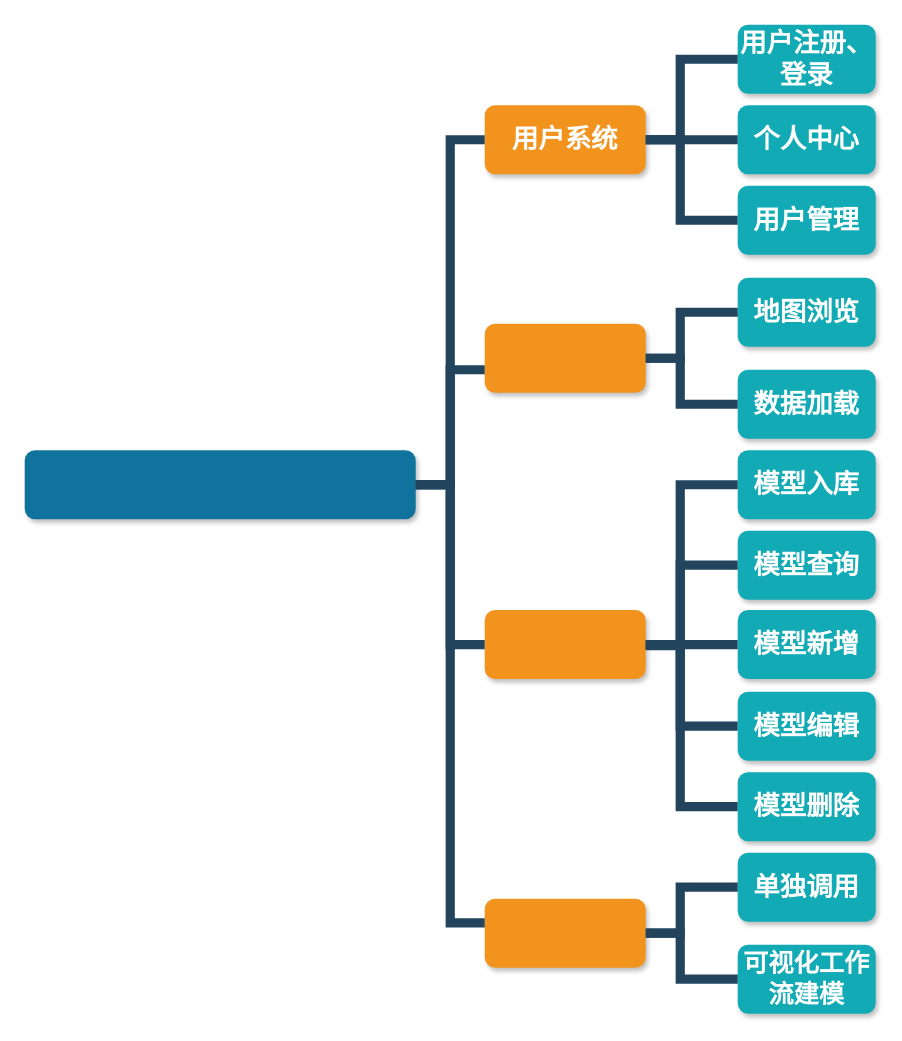
This 902x1041 diagram has some shape labels left out. The centre of each missing label's shape, as x and y in pixels:
"云原生地理模型库管理系统" goes at [221,486].
"地图服务" goes at [566,359].
"模型应用" goes at [566,934].
"模型管理" goes at [566,646].
